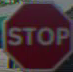Stop: (2, 4, 67, 64)
